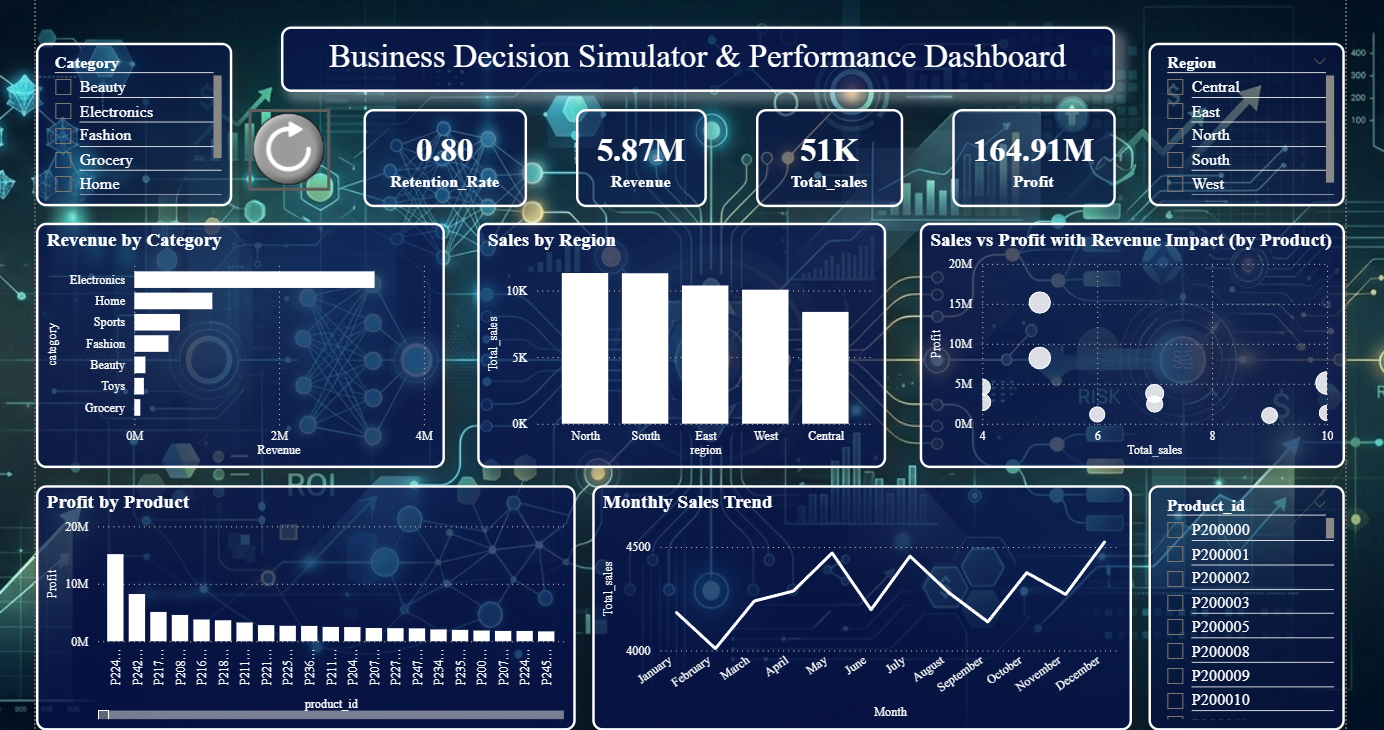

The dashboard page shown, as its layout file describes it:
{"tool":"tableau","page":{"name":"Dashboard 1","canvas":[1000,1000],"units":"permille","ordinal":0},"visuals":[{"type":"image","param":"C:/Users/anjan/Downloads/Gemini_Generated_Image_b315zfb315zfb315.png","box":[6.1,10.5,987.9,978.9]},{"type":"worksheet","title":"Sheet 7","mark":"Automatic","box":[128.8,72.4,106.8,139.5]},{"type":"worksheet","title":"Sheet 6","mark":"Automatic","box":[18.2,73.7,102.3,139.5]},{"type":"title","box":[247.7,80.3,518.9,98.7]},{"type":"filter","title":"Sheet 4","param":"[federated.0023edd10duze80zt1h8f1etblaj].[mn:order_date:ok]","box":[809.9,84.2,165.2,338.2]},{"type":"worksheet","title":"Sheet 3","mark":"Automatic","rows":["category"],"cols":["total_amount"],"box":[443.2,252.6,362.1,346.1]},{"type":"worksheet","title":"Sheet 2","mark":"Automatic","rows":["region"],"cols":["quantity"],"box":[19.7,254,411.4,289.5]},{"type":"filter","title":"Sheet 2","param":"[federated.0023edd10duze80zt1h8f1etblaj].[none:region:nk]","box":[810.6,427.6,167.4,226.3]},{"type":"worksheet","title":"Sheet 1","mark":"Automatic","rows":["product_id"],"cols":["Calculation_0816994269614080"],"box":[14.4,551.3,426.5,426.3]},{"type":"worksheet","title":"Sheet 4","mark":"Automatic","rows":["quantity"],"cols":["order_date"],"box":[448.5,611.8,349.2,353.9]},{"type":"filter","title":"Sheet 3","param":"[federated.0023edd10duze80zt1h8f1etblaj].[none:category:nk]","box":[812.9,673.7,163.6,288.2]}]}

Visuals, with their boxes on the dashboard's canvas, which has no fixed pixel size, in thousandths of its width and height (x1, y1, x2, y2). These are canvas units, not pixel positions in the 1384x730 screenshot, which may show the page scaled, cropped or inside an application window:
image: (x1=6, y1=10, x2=994, y2=989)
"Sheet 7" worksheet: (x1=129, y1=72, x2=236, y2=212)
"Sheet 6" worksheet: (x1=18, y1=74, x2=120, y2=213)
title: (x1=248, y1=80, x2=767, y2=179)
"Sheet 4" filter: (x1=810, y1=84, x2=975, y2=422)
"Sheet 3" worksheet: (x1=443, y1=253, x2=805, y2=599)
"Sheet 2" worksheet: (x1=20, y1=254, x2=431, y2=544)
"Sheet 2" filter: (x1=811, y1=428, x2=978, y2=654)
"Sheet 1" worksheet: (x1=14, y1=551, x2=441, y2=978)
"Sheet 4" worksheet: (x1=448, y1=612, x2=798, y2=966)
"Sheet 3" filter: (x1=813, y1=674, x2=976, y2=962)
